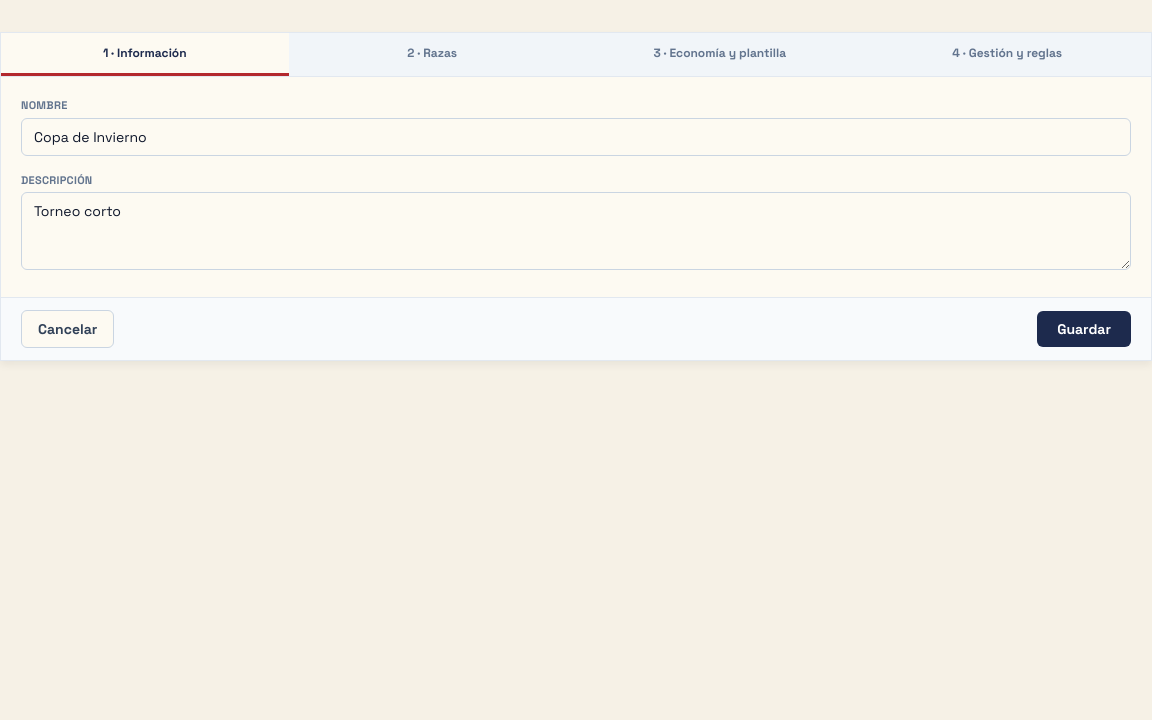
Scenario: RulesetEditor › Guardar from the guard persists the whole ruleset and then navigates
Replace the text in the text box labelled "Descripción" with "Desc editada". click: (576, 231)
box: 21,192 -> 1131,270
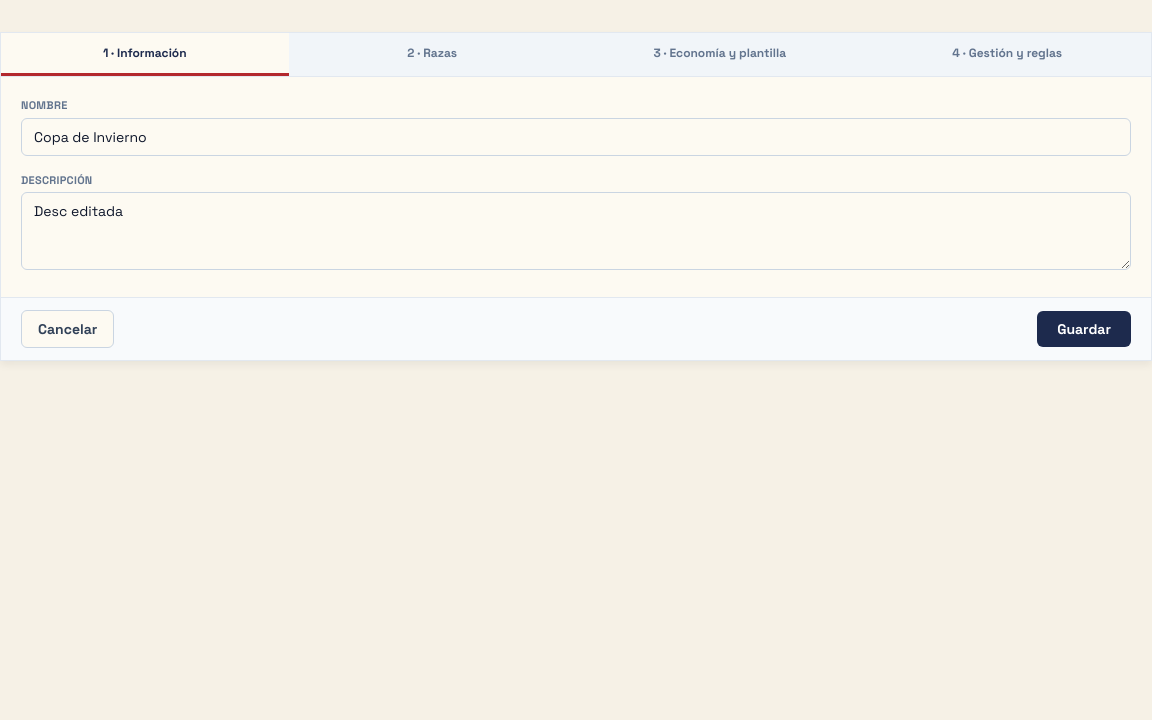
Click the tab "3 · Economía y plantilla". click: (720, 54)
box: 576,33 -> 864,76
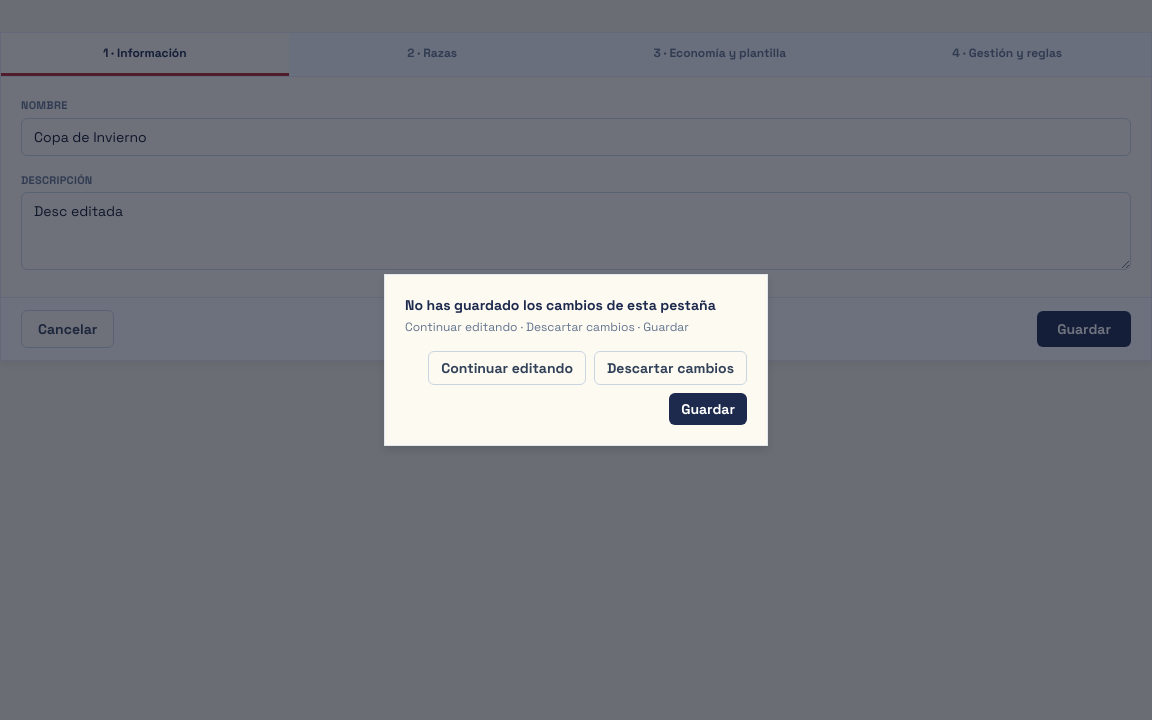
Click the button "Guardar". click: (708, 409)
box: 669,393 -> 747,425
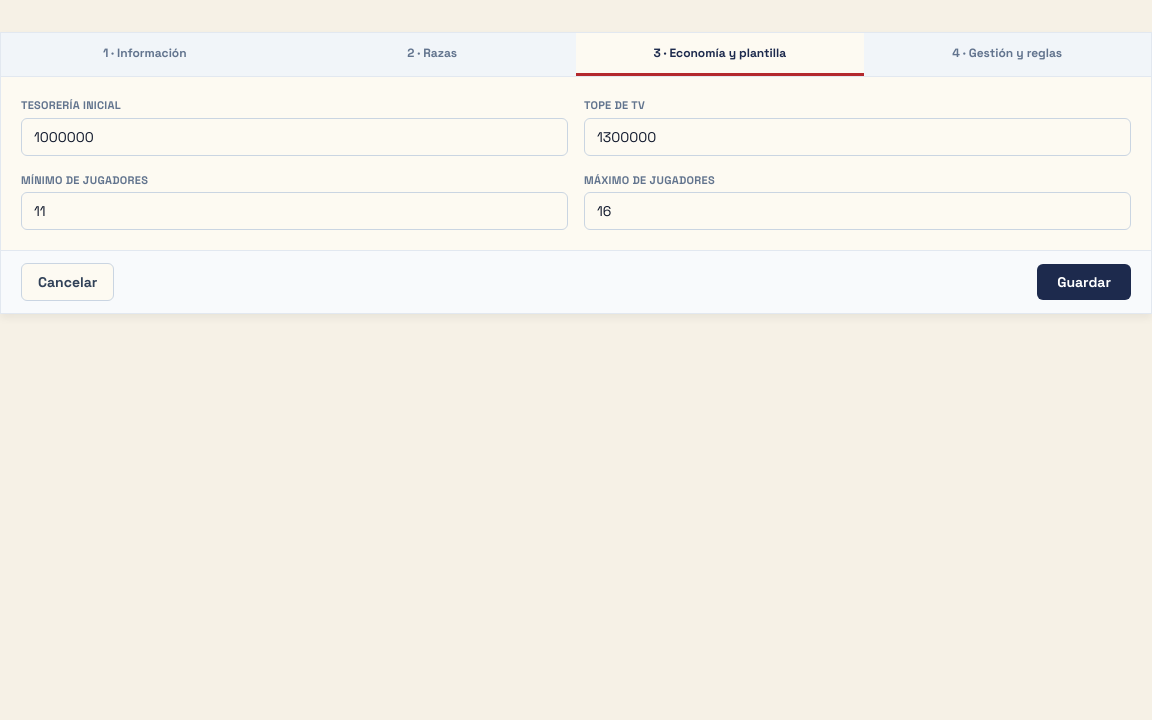
expect the number field labelled "Tesorería inicial" is shown: met, box 21,118 -> 568,156
expect the dialog is gone: met
